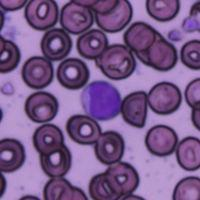L: (80, 79, 122, 121)
